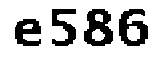5: (49, 4, 80, 49)
6: (117, 6, 150, 49)
8: (82, 8, 115, 48)
e: (13, 18, 43, 48)
